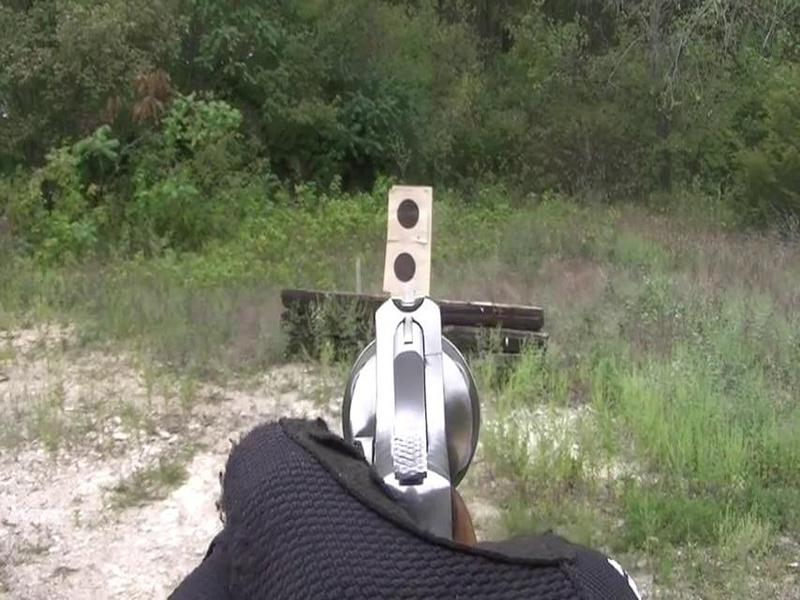Revolver: (314, 277, 497, 553)
